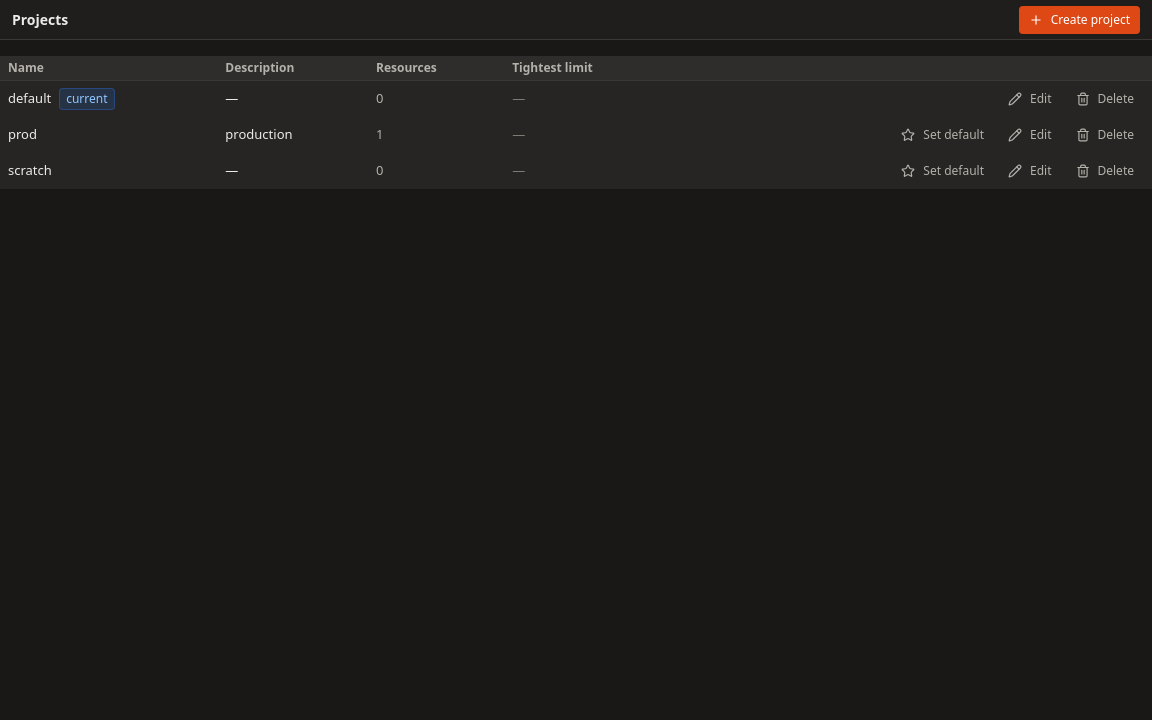
ProjectsPage › never allows deleting the default project
The image size is (1152, 720).
Expected: the text "prod" is shown, [8, 125, 37, 145]
Click the button with test id "project-delete-default": (1105, 99) [1066, 85, 1144, 113]
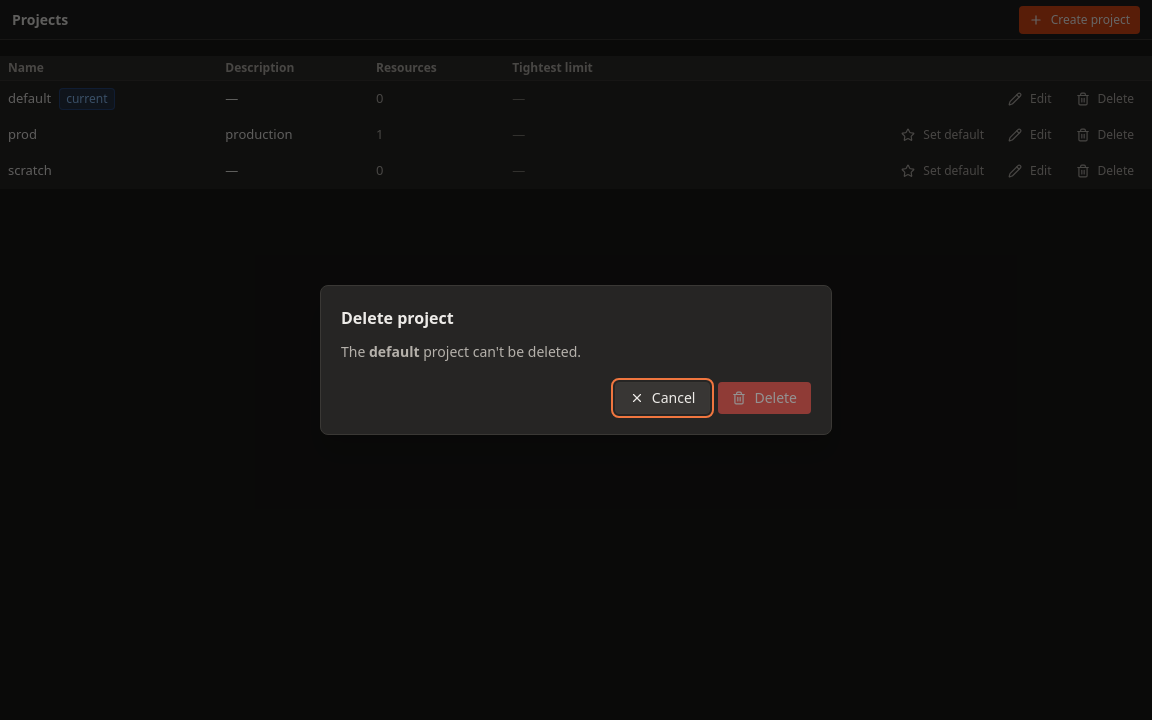
Expected: the text "The default project can't be deleted." is shown, [341, 342, 581, 361]
Expected: the button with test id "project-delete-confirm" is disabled, [718, 382, 811, 414]
